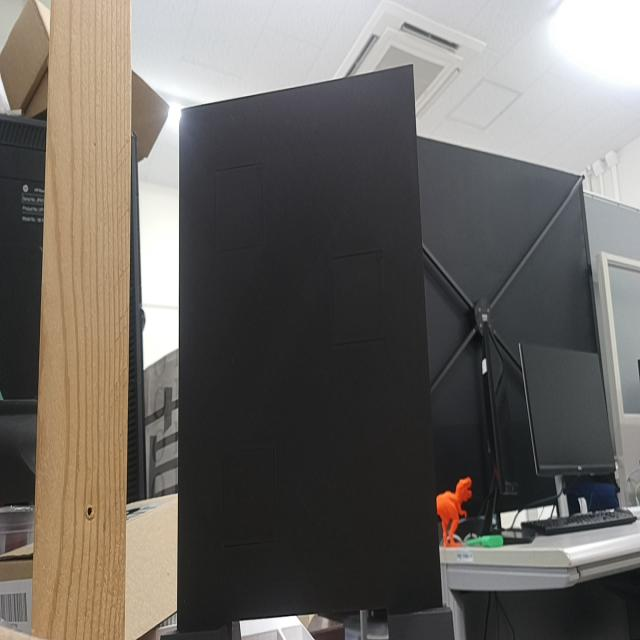Wall: (178, 66, 440, 629)
